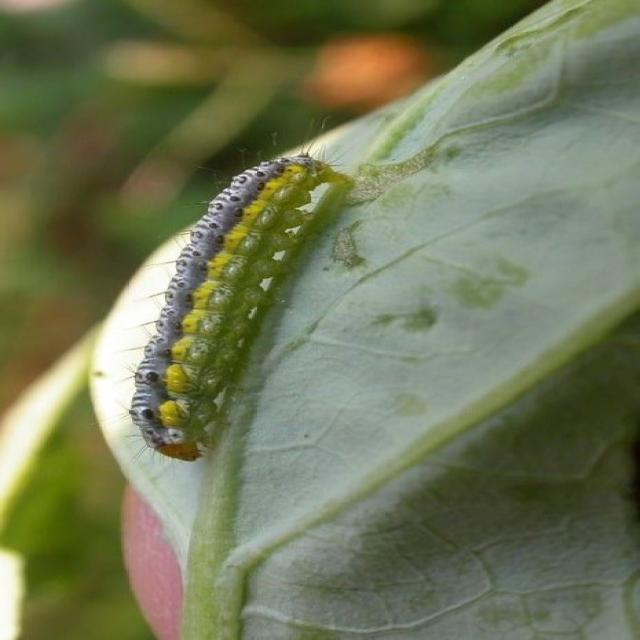worm: (123, 104, 343, 474)
